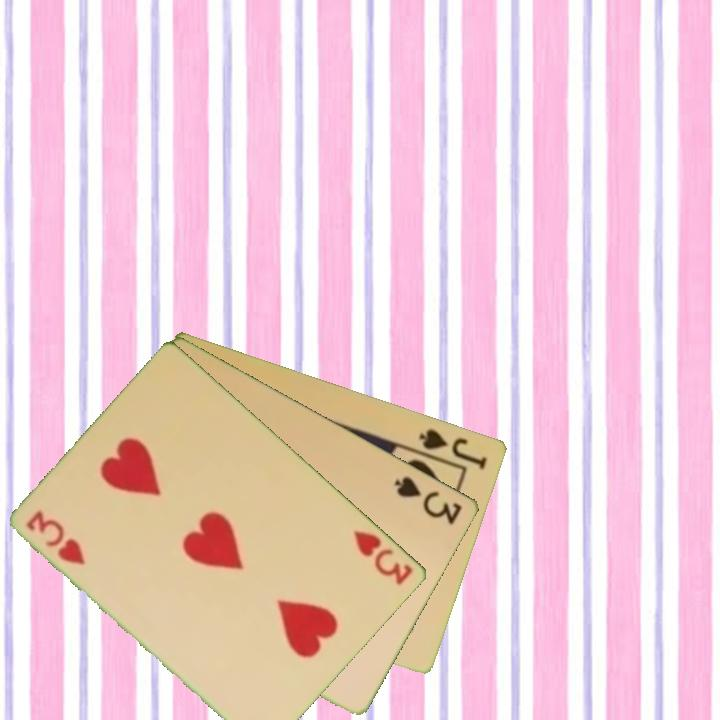3h: (350, 526, 417, 588), (23, 506, 89, 568)
3s: (391, 472, 466, 528)
Js: (416, 425, 491, 472)
